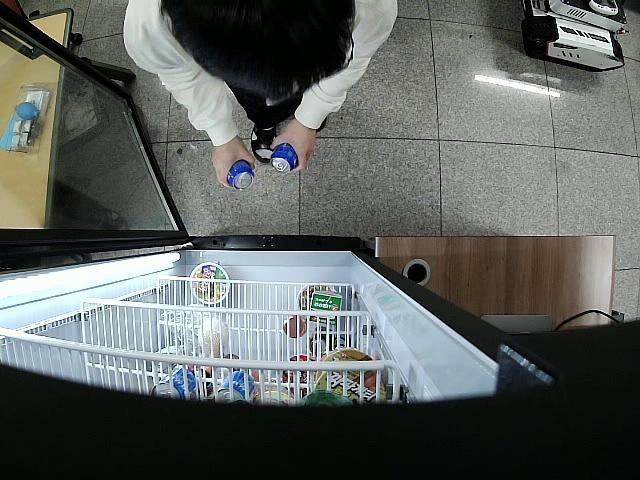13_pocariSweat: (226, 159, 256, 192), (270, 142, 299, 176)
